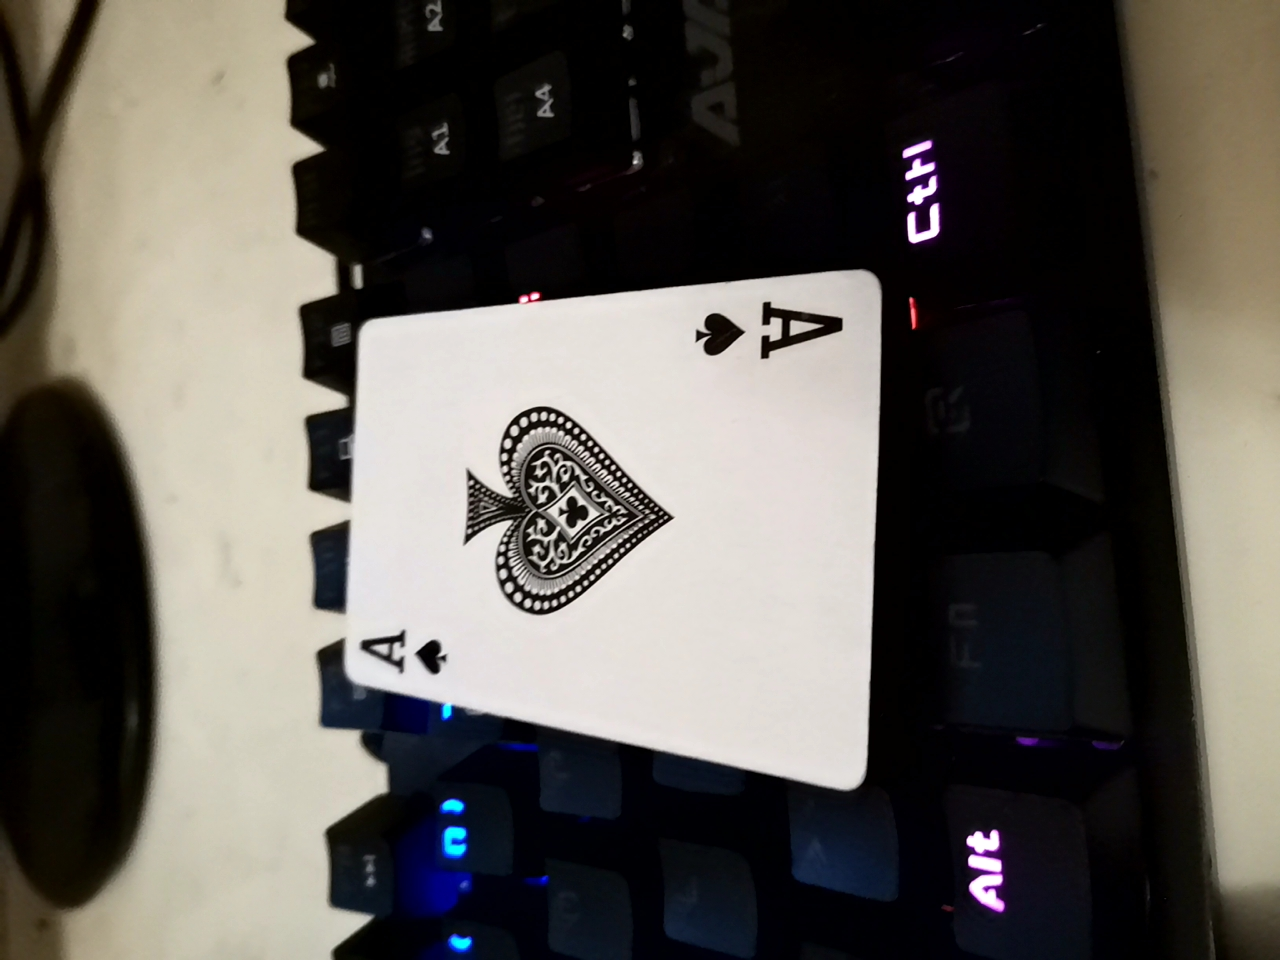ht a: (286, 275, 894, 812)
